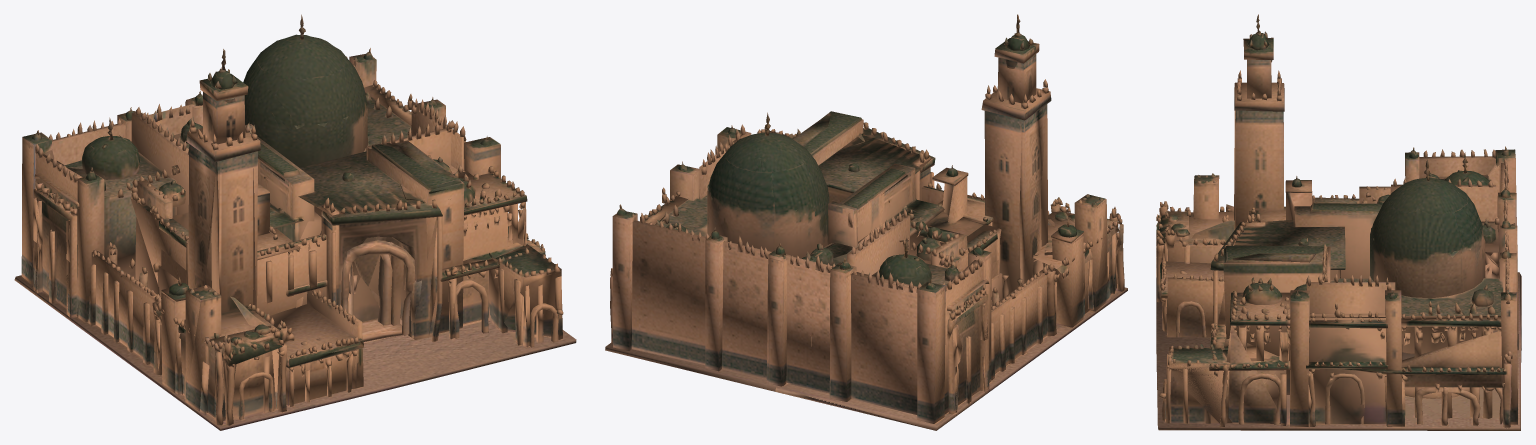
The model's file is marokko moschee-web.glb.
3 renders of one model, left to right at view 1: azimuth 30°, elevation 25°; view 2: azimuth 150°, elevation 25°; view 3: azimuth 270°, elevation 25°, orthographic. The views are drawn at different scales.
Size of the model in its own units: 1 by 0.873 by 1.
Materials: 1 (1 with a texture image).
